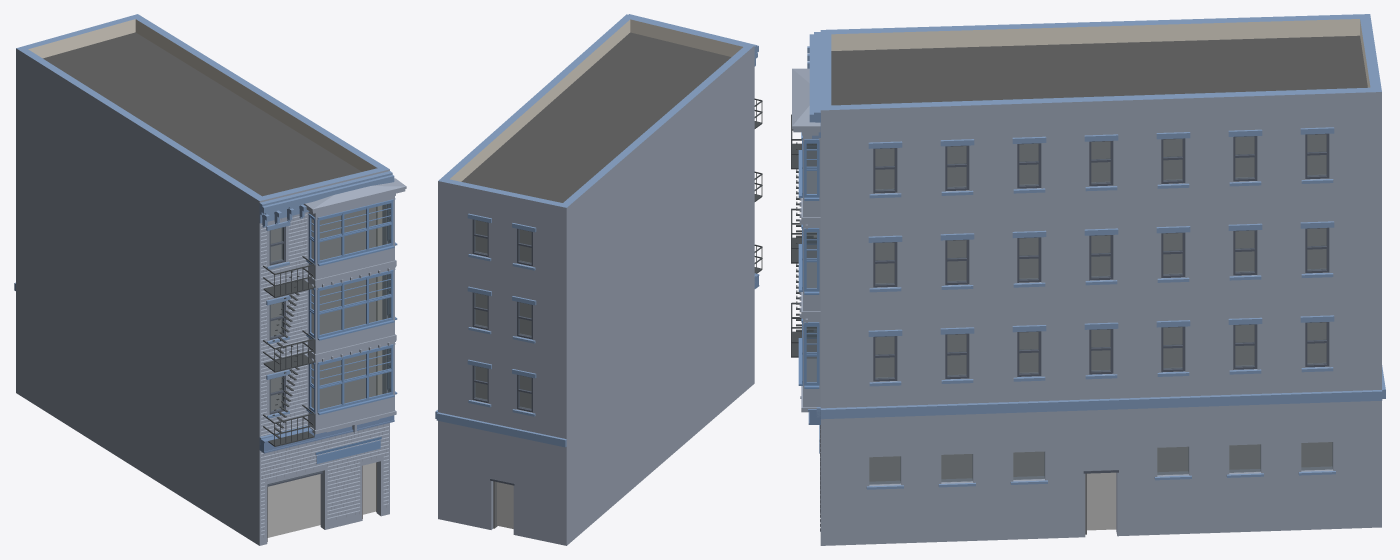
Rendered from exterior.glb.
3 renders of one model, left to right at view 1: azimuth 30°, elevation 25°; view 2: azimuth 150°, elevation 25°; view 3: azimuth 270°, elevation 25°, orthographic. The views are drawn at different scales.
Visible parts, largest first — view 1: shell, roof, bay-glazing-hyb, shadow-proxy, bay-windows-hyb, hyD-shingle-0, trim, fire-escape, glazing, relief-0, frames; view 2: shell, roof, trim, shadow-proxy, glazing, frames, fire-escape; view 3: shell, roof, glazing, shadow-proxy, trim, frames, bay-windows-hyb, bay-glazing-hyb, fire-escape.
Boxes of the visible parts, x1,y1,x2,y2 form: shell: (16, 14, 389, 545); roof: (43, 32, 361, 196); bay-glazing-hyb: (306, 198, 397, 414); shadow-proxy: (267, 207, 375, 537); bay-windows-hyb: (303, 178, 406, 434); hyD-shingle-0: (261, 214, 388, 537); trim: (14, 171, 394, 453); fire-escape: (263, 256, 314, 446); glazing: (267, 227, 322, 484); relief-0: (315, 436, 381, 463); frames: (269, 226, 285, 414); shell: (438, 14, 754, 545); roof: (461, 32, 731, 202); trim: (435, 14, 759, 447); shadow-proxy: (476, 220, 531, 528); glazing: (475, 220, 531, 409); frames: (472, 219, 532, 412); fire-escape: (754, 98, 762, 273); shell: (820, 14, 1381, 545); roof: (831, 35, 1367, 105); glazing: (869, 134, 1332, 484); shadow-proxy: (869, 134, 1331, 530); trim: (808, 32, 1385, 489); frames: (873, 133, 1329, 381); bay-windows-hyb: (792, 68, 820, 412); bay-glazing-hyb: (798, 132, 819, 388); fire-escape: (791, 114, 816, 357).
Bounding box in the file's own units: 7.37 × 15 × 18.57.
